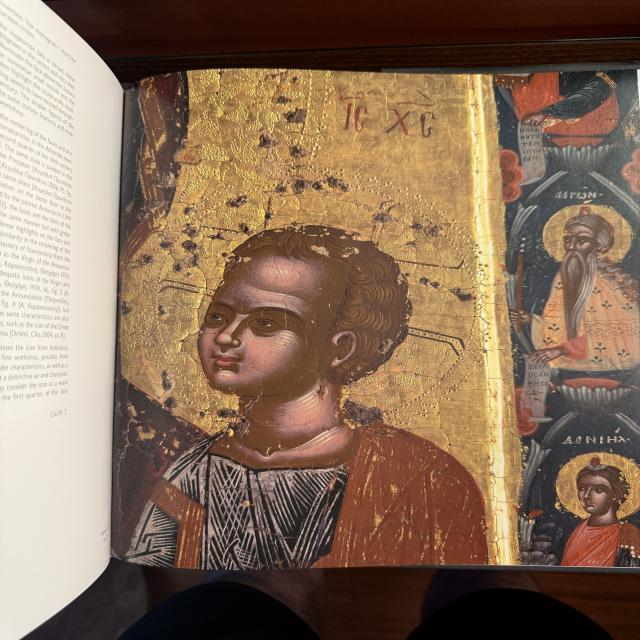aura: (168, 182, 490, 430), (543, 203, 635, 271), (556, 452, 640, 519)
christ_child: (152, 201, 492, 562)
scroll: (512, 113, 558, 191), (523, 352, 565, 432)
sword: (510, 244, 546, 341)
